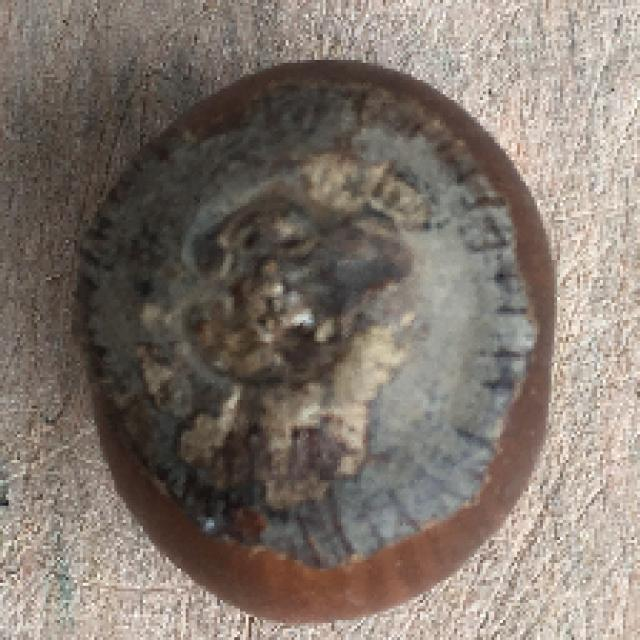DamagedHazelnut: (74, 61, 559, 621)
